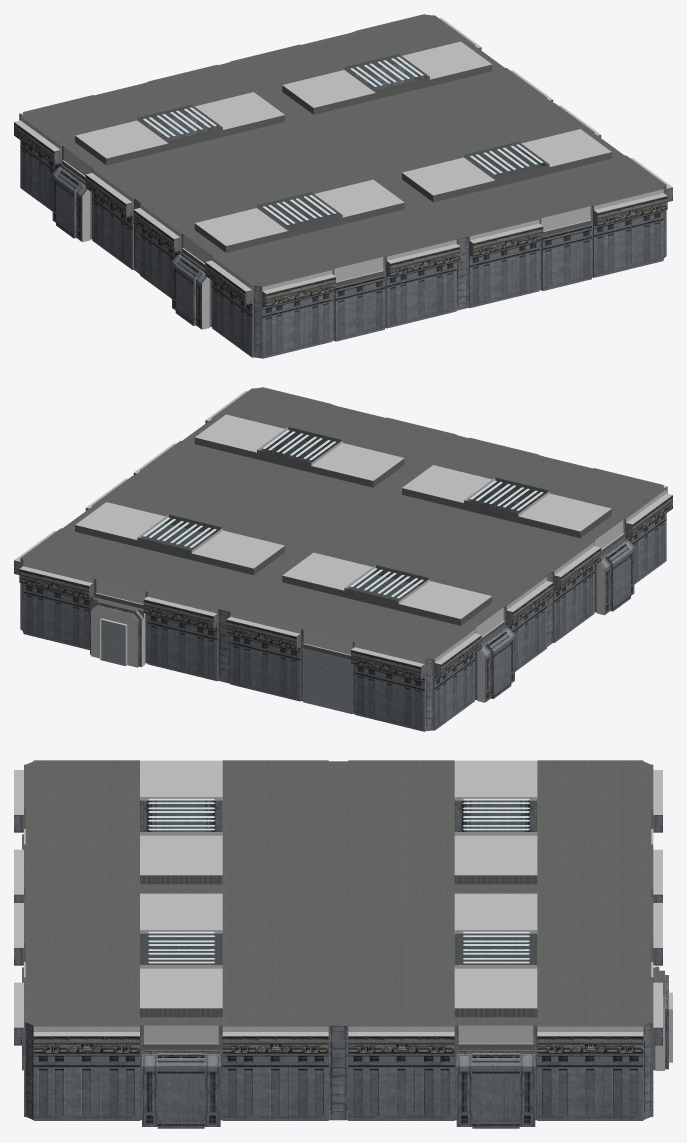
File: poi_all_impl_bunker_research_facility_s01_r19_powerroom_mesh.fbx
3 renders of one model, top to bottom at view 1: azimuth 30°, elevation 25°; view 2: azimuth 150°, elevation 25°; view 3: azimuth 270°, elevation 25°, orthographic. The views are drawn at different scales.
Visible parts, largest first — view 1: mesh_node; view 2: mesh_node; view 3: mesh_node.
Part boxes in pixels (left/top/right/bottom): mesh_node: left=14, top=14, right=672, bottom=358; mesh_node: left=14, top=387, right=672, bottom=731; mesh_node: left=14, top=760, right=672, bottom=1128.
Bounding box in the file's own units: 33.8 × 6 × 33.5.
